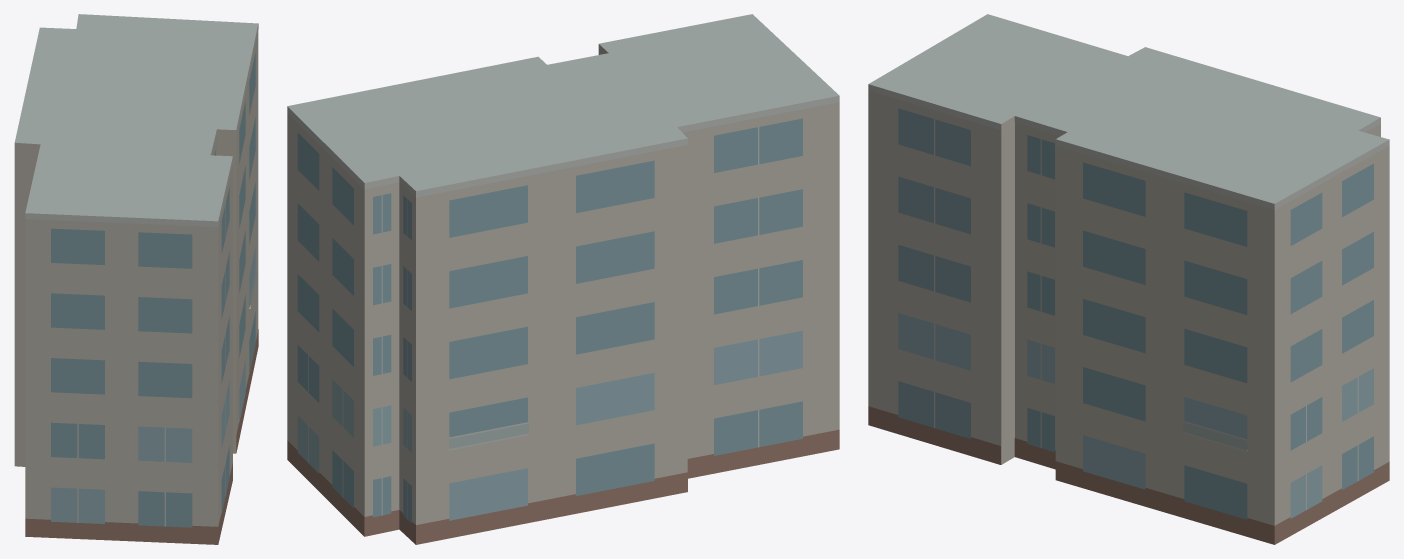
Rendered from survey-upis-33013455.glb.
The picture shows the model from 3 angles, left to right: view 1: azimuth 30°, elevation 25°; view 2: azimuth 150°, elevation 25°; view 3: azimuth 270°, elevation 25°; orthographic projection. The views are drawn at different scales.
Visible parts, largest first — view 1: survey-upis-33013455.tmp; view 2: survey-upis-33013455.tmp; view 3: survey-upis-33013455.tmp.
Boxes of the visible parts, <box> form: survey-upis-33013455.tmp: <box>14,14,258,544</box>; survey-upis-33013455.tmp: <box>287,14,839,544</box>; survey-upis-33013455.tmp: <box>868,14,1389,544</box>.
Size of the model in its own units: 16.07 by 13.45 by 18.64.
